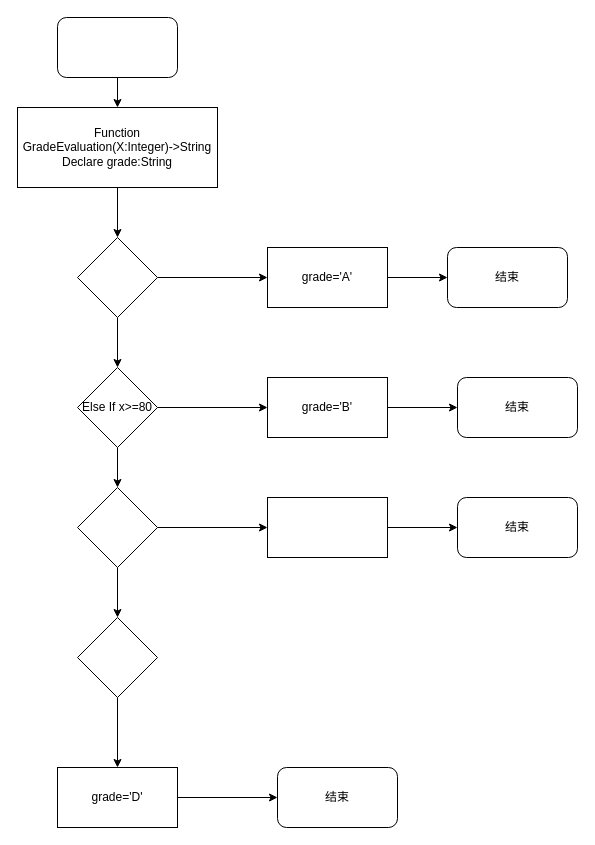
Some shapes in this 595 by 845 pixel diagram are drawn without their labels. Here are the shapes that lost their labels. From the top down, the centre of each, then its label:
At point (117, 47): "开始".
At point (117, 277): "If x>=90".
At point (117, 527): "Else If >=60".
At point (327, 527): "grade='C'".
At point (117, 657): "Else".
